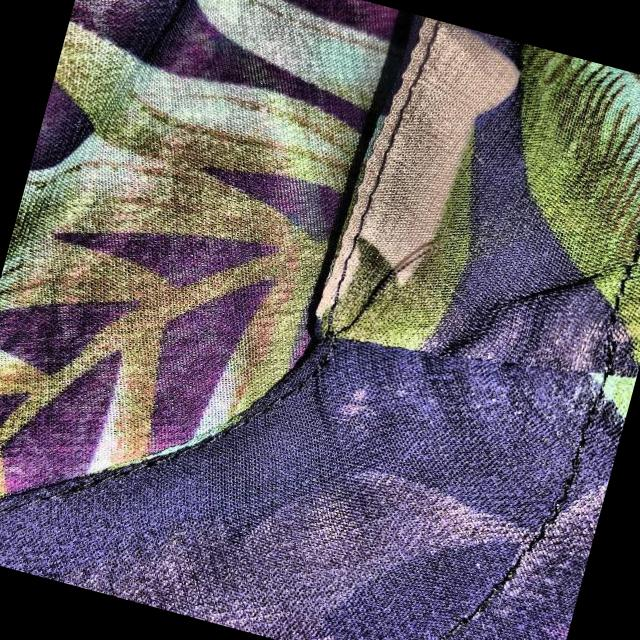gray stitch: (298, 179, 521, 484)
